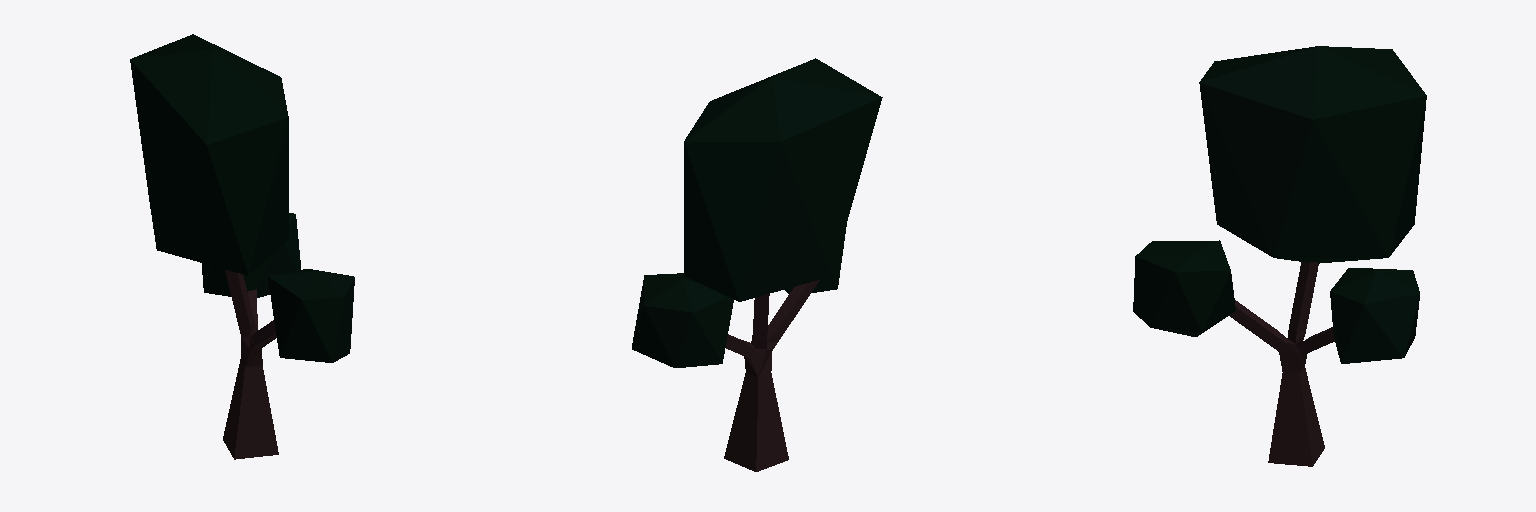
The model's file is dtree1A(F188).obj.
3 views of the same model, side by side, from view 1: azimuth 30°, elevation 25°; view 2: azimuth 150°, elevation 25°; view 3: azimuth 270°, elevation 25° (orthographic).
Parts seen in each view (by area): view 1: Icosphere.076, Icosphere.077, Cube.019, Icosphere.075; view 2: Icosphere.076, Icosphere.075, Cube.019, Icosphere.077; view 3: Icosphere.076, Icosphere.077, Cube.019, Icosphere.075.
Boxes of the visible parts, box(x1,y1,x2,y2) form: Icosphere.076: box(130, 34, 288, 275); Icosphere.077: box(268, 269, 354, 362); Cube.019: box(223, 270, 278, 459); Icosphere.075: box(202, 213, 300, 297); Icosphere.076: box(684, 58, 882, 301); Icosphere.075: box(632, 273, 733, 367); Cube.019: box(724, 280, 819, 471); Icosphere.077: box(785, 224, 846, 293); Icosphere.076: box(1199, 46, 1426, 263); Icosphere.077: box(1133, 240, 1235, 336); Cube.019: box(1229, 262, 1334, 466); Icosphere.075: box(1330, 268, 1419, 363).
Bounding box in the file's own units: 1.07 × 2.48 × 1.66.